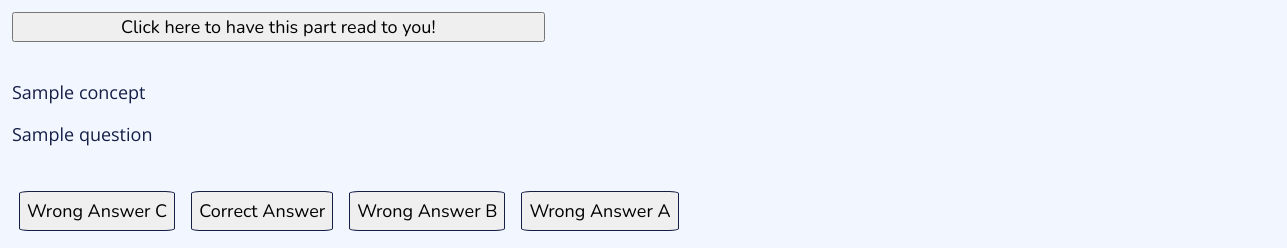
Test case: Section component › Clicking an answer button sets answered, selected answer, and isCorrect
Click the button "Correct Answer": (262, 211) [191, 191, 333, 231]
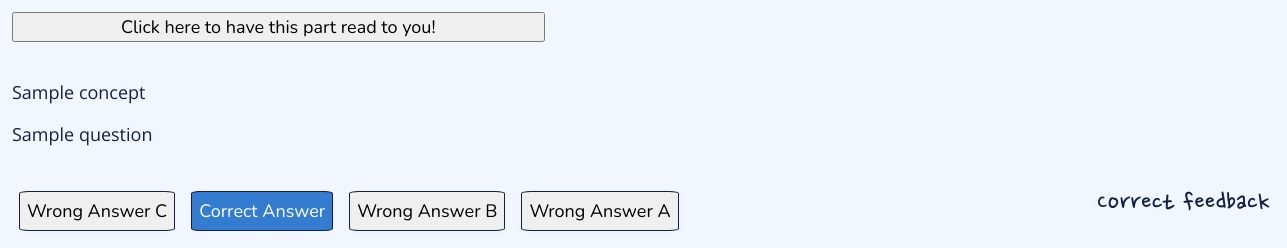
Expected: the text "Correct feedback" is shown, [1097, 188, 1270, 218]
